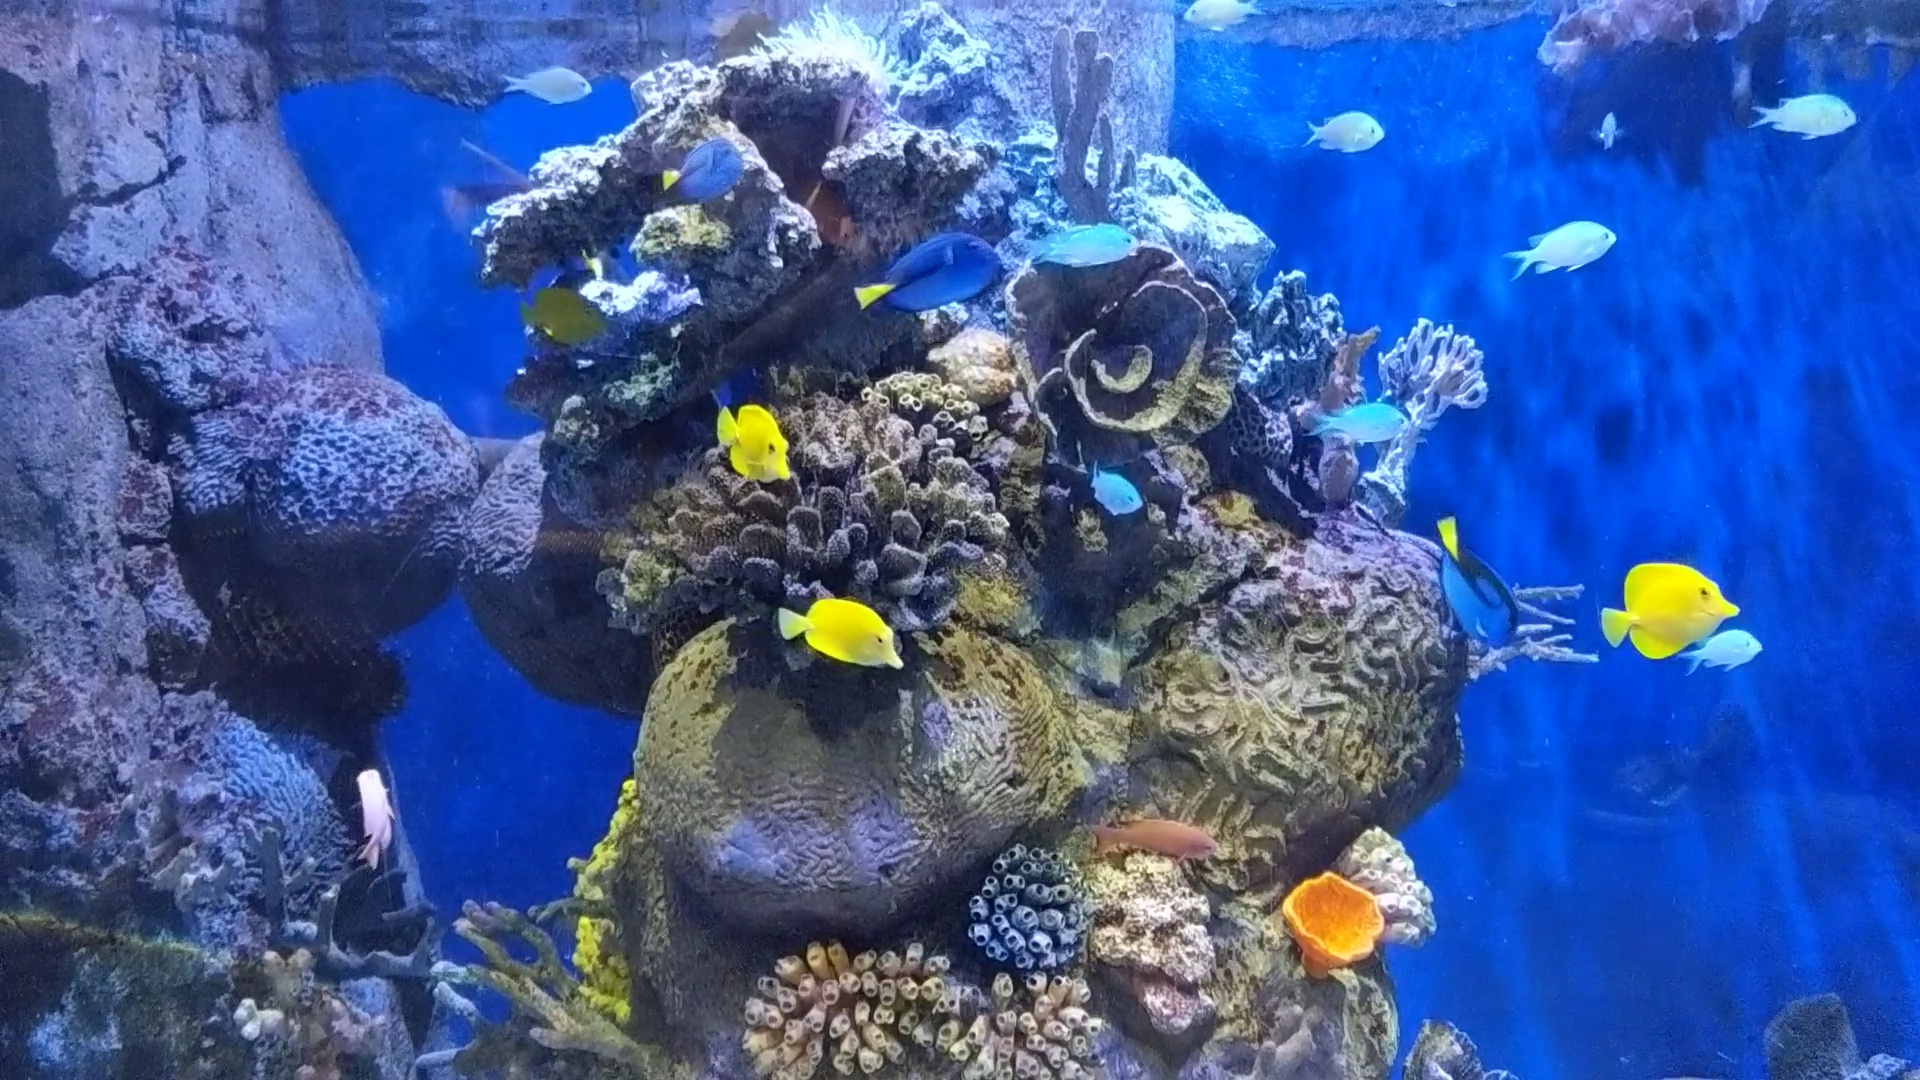blue tang surgeonfish: (858, 231, 1009, 316), (1433, 514, 1520, 649), (653, 136, 764, 200)
damselfish: (1498, 215, 1619, 285), (1746, 88, 1857, 138), (1295, 402, 1412, 444), (1304, 105, 1393, 158), (1033, 218, 1139, 261), (502, 59, 601, 105), (1083, 460, 1153, 517), (1040, 231, 1153, 265), (1691, 629, 1766, 673), (1179, 0, 1261, 33), (1596, 102, 1625, 162)
saddle butterfly fish: (1598, 553, 1743, 654), (773, 592, 902, 669), (506, 282, 634, 339), (711, 396, 791, 483)
